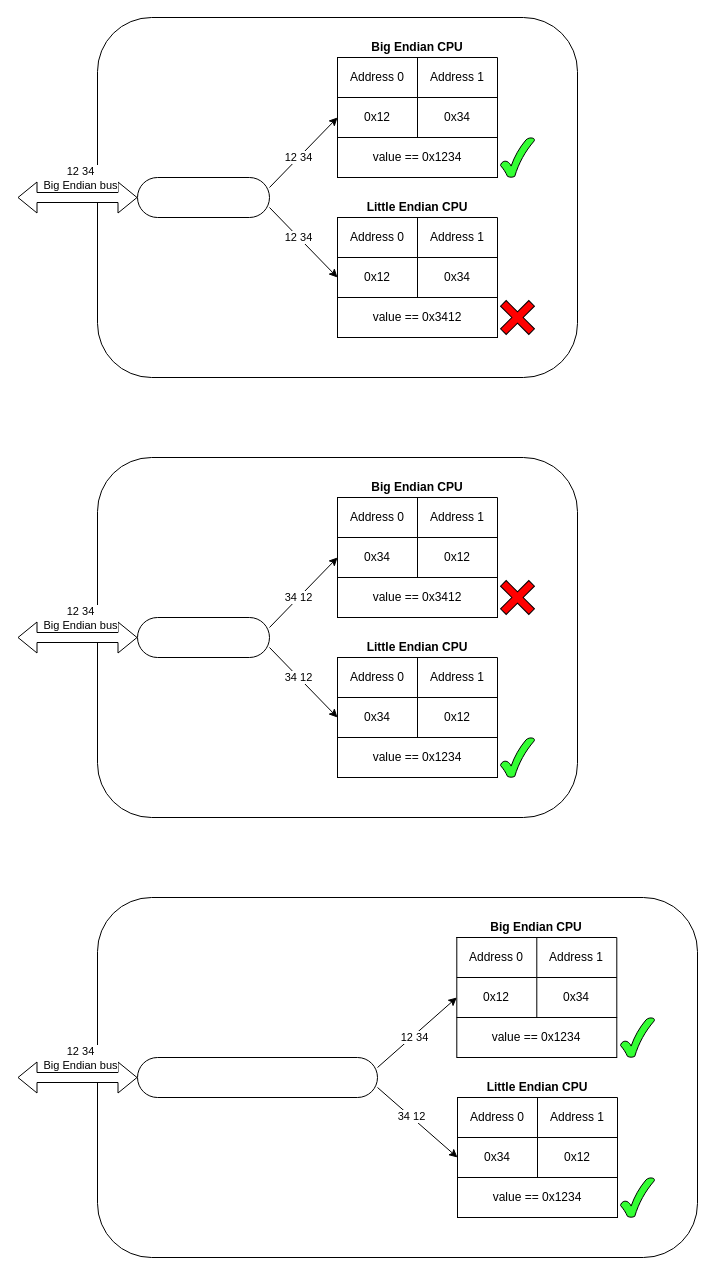
The diagram is 715 pixels wide and 1275 high, and some of its shapes have lost their labels. The box of each missing label's shape, as (x1, y1, x2, y2) in pixels:
ECU_BE16_TO_CPU_RUNTIME(value): (136, 1056, 378, 1098)
swap_bytes(value): (136, 616, 270, 658)
value: (136, 176, 270, 218)
